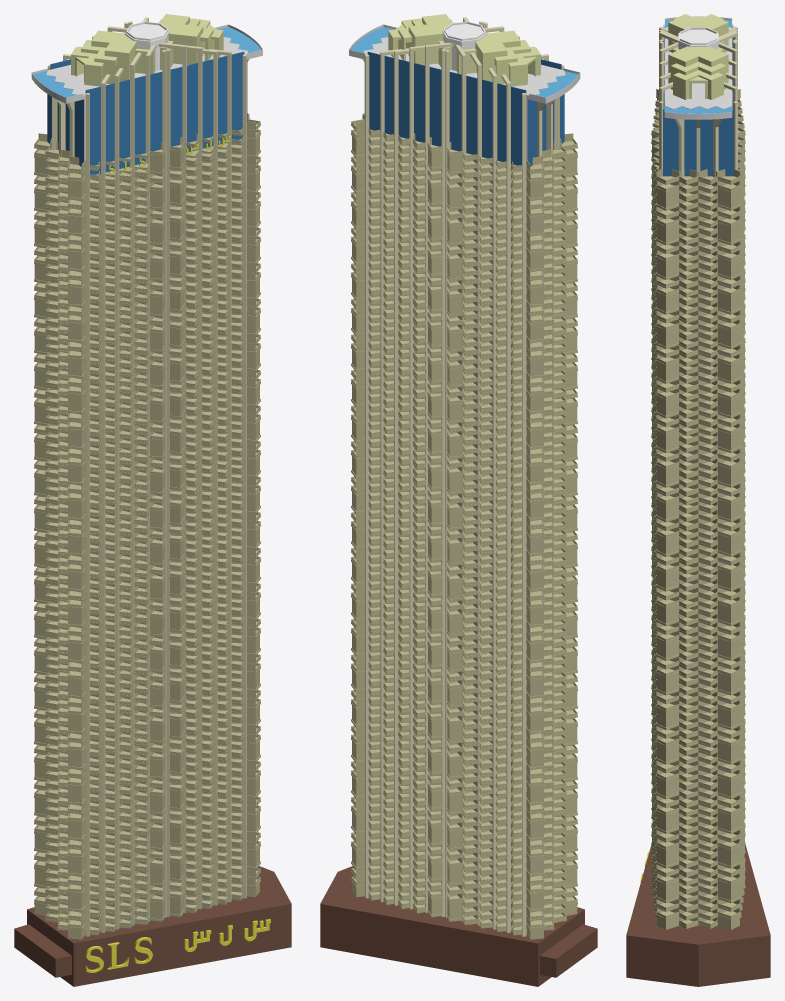
File: sls.glb
3 views of the same model, side by side, from view 1: azimuth 30°, elevation 25°; view 2: azimuth 150°, elevation 25°; view 3: azimuth 270°, elevation 25° (orthographic). The views are drawn at different scales.
Parts seen in each view (by area): view 1: Object_4; view 2: Object_4; view 3: Object_4.
Boxes of the visible parts, <box> form: Object_4: <box>14,14,291,986</box>; Object_4: <box>320,14,597,986</box>; Object_4: <box>626,14,770,986</box>.
Size of the model in its own units: 91.85 by 336 by 49.38.
